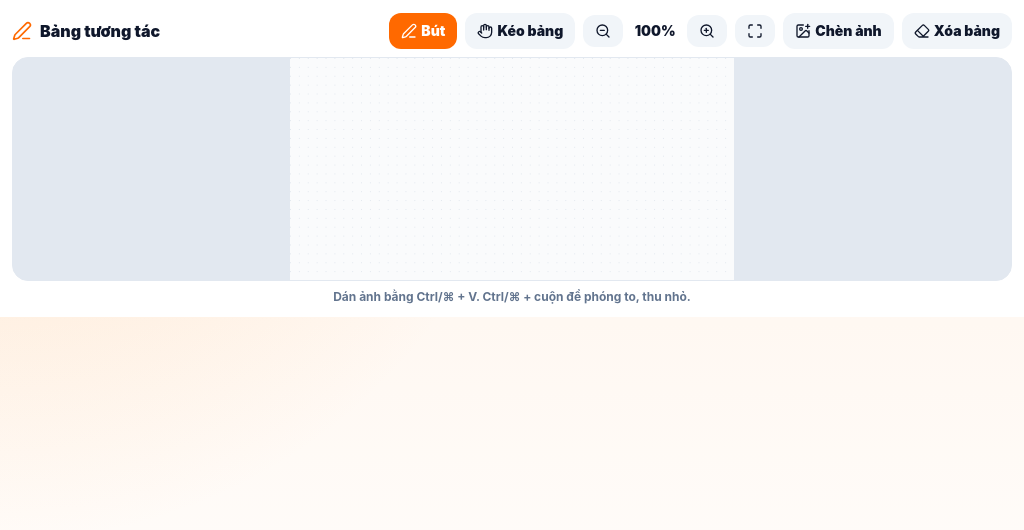
Test case: phóng to, thu nhỏ và đưa bảng về vừa khung
Later steps or results of the test are not shown.
Click the button named "Phóng to" at (707, 31), box top-left (687, 15), bottom-right (727, 47)
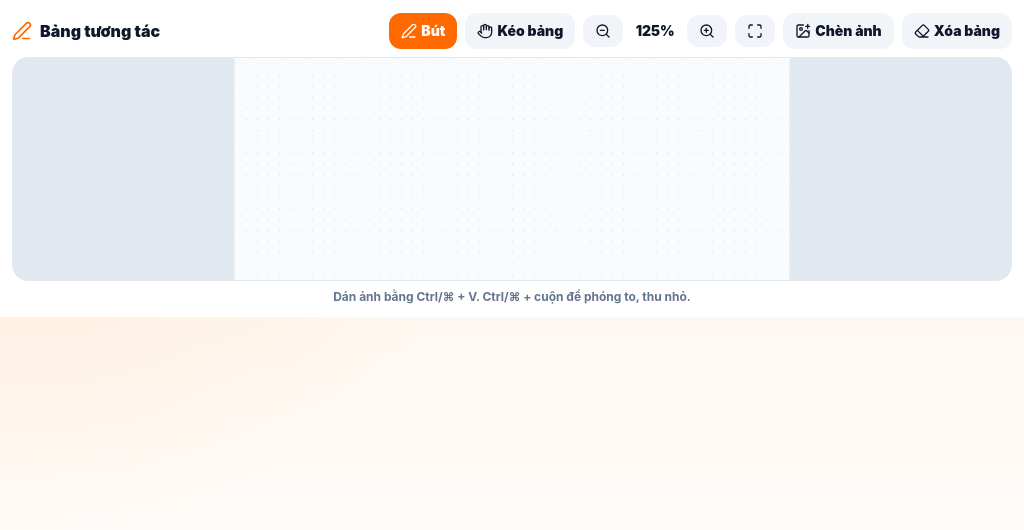
Expected: the text "125%" is shown, top-left (636, 22), bottom-right (675, 39)
Click the button named "Thu nhỏ" at (603, 31), box top-left (583, 15), bottom-right (623, 47)
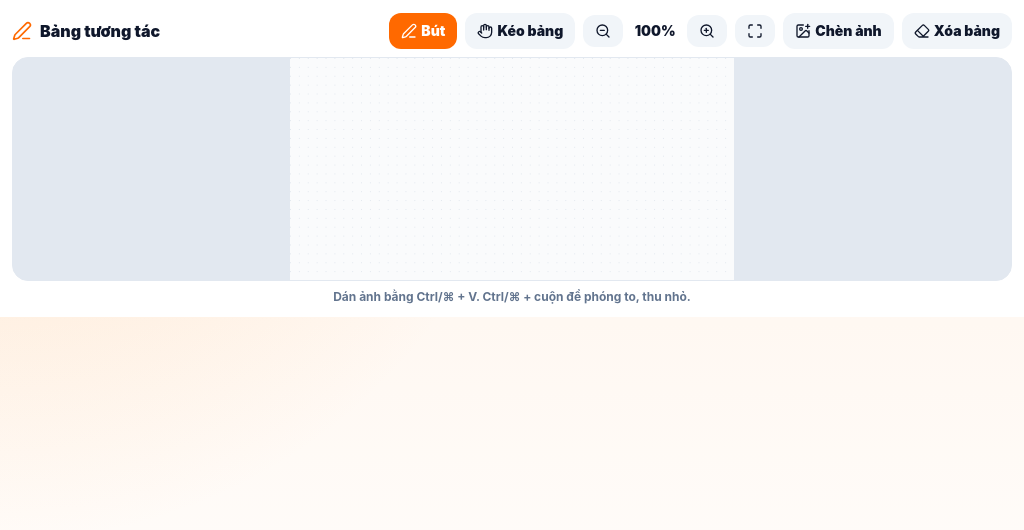
Click the button named "Thu nhỏ" at (603, 31), box top-left (583, 15), bottom-right (623, 47)
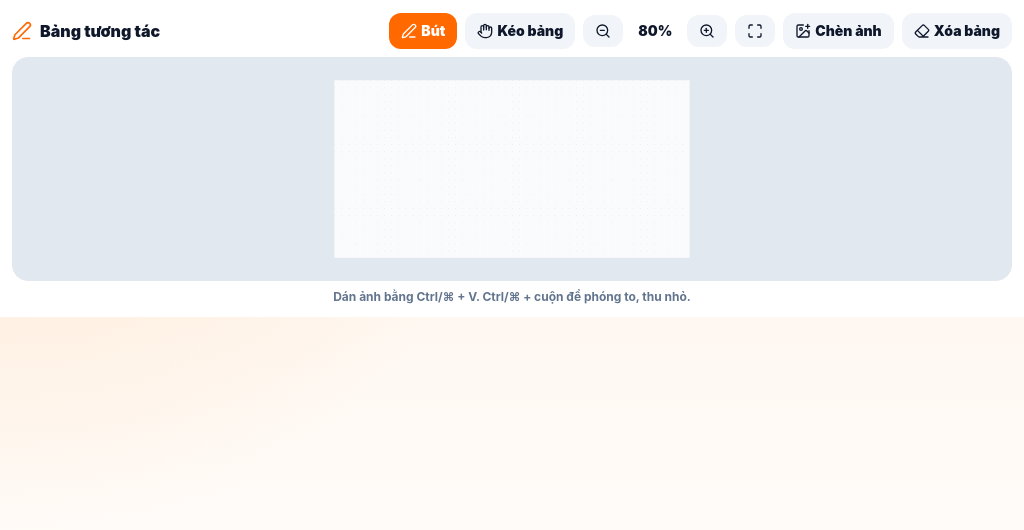
Expected: the text "80%" is shown, top-left (638, 22), bottom-right (672, 39)
